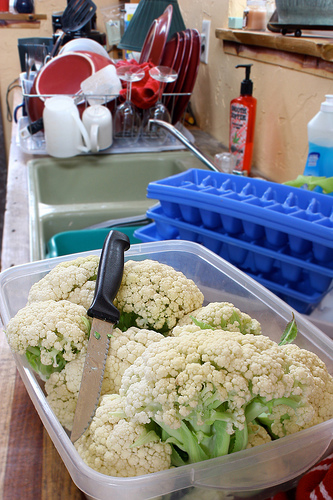cauliflower: (121, 329, 274, 463)
